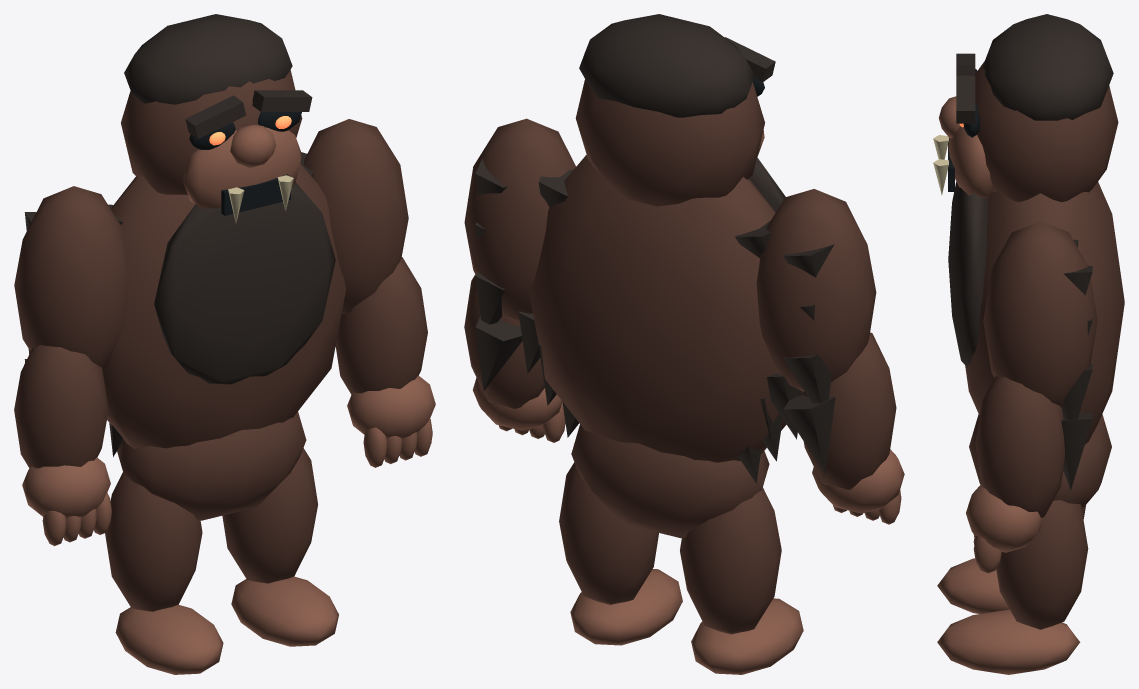
Rendered from genderuwo.glb.
3 views of the same model, side by side, from view 1: azimuth 30°, elevation 25°; view 2: azimuth 150°, elevation 25°; view 3: azimuth 270°, elevation 25° (orthographic). The views are drawn at different scales.
Parts seen in each view (by area): view 1: Genderuwo, arm (×2), head, leg (×2); view 2: Genderuwo, arm (×2), head, leg (×2); view 3: arm, head, Genderuwo, leg (×2).
Boxes of the visible parts, bbox=[...] form: Genderuwo: bbox=[103, 152, 345, 520]; arm (×2): bbox=[14, 119, 435, 546]; head: bbox=[121, 14, 312, 223]; leg (×2): bbox=[105, 448, 338, 674]; Genderuwo: bbox=[518, 155, 803, 538]; arm (×2): bbox=[464, 118, 904, 524]; head: bbox=[575, 14, 775, 206]; leg (×2): bbox=[559, 462, 803, 674]; arm: bbox=[966, 221, 1097, 573]; head: bbox=[933, 14, 1118, 202]; Genderuwo: bbox=[948, 182, 1124, 509]; leg (×2): bbox=[937, 500, 1088, 674].
Size of the model in its own units: 2.94 by 4.25 by 1.2.
